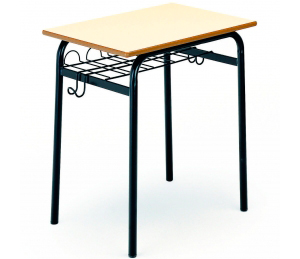m01: (41, 3, 257, 259)
